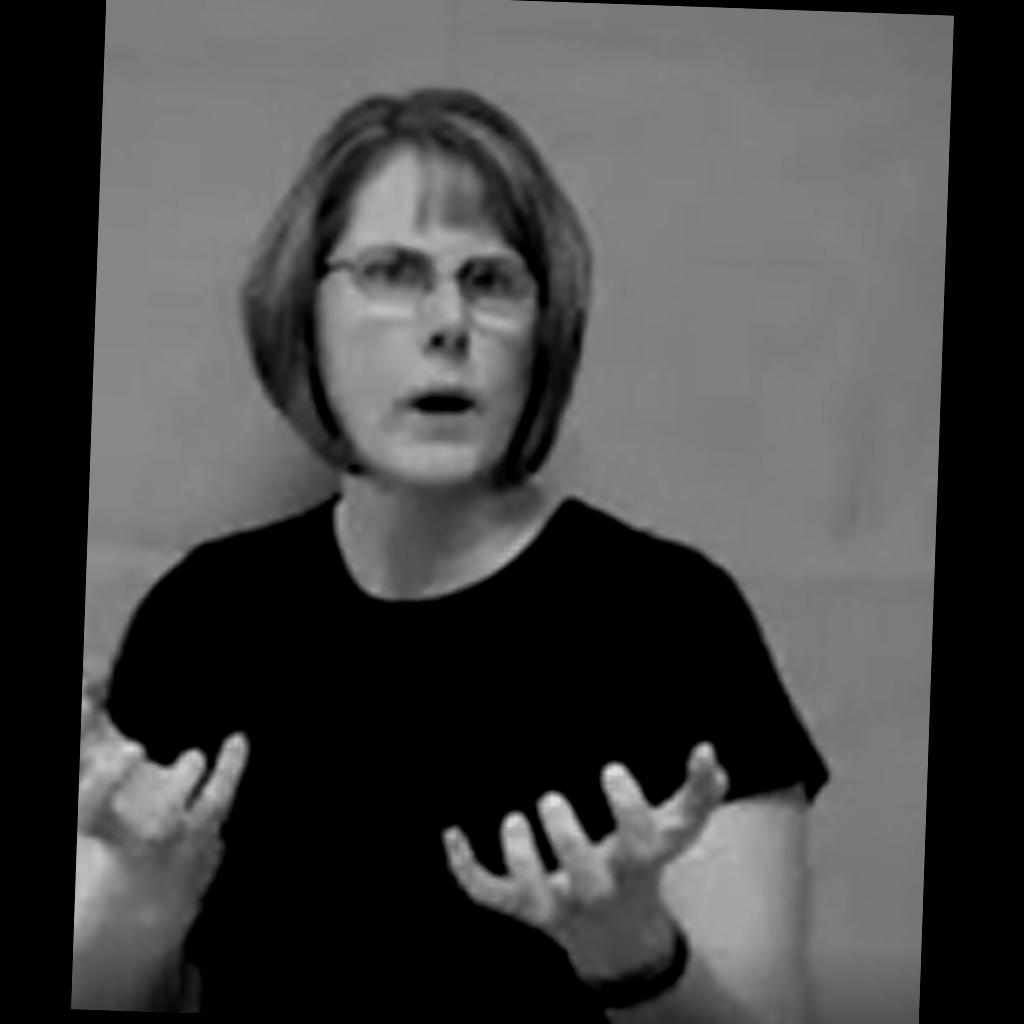want: (74, 660, 734, 935)
